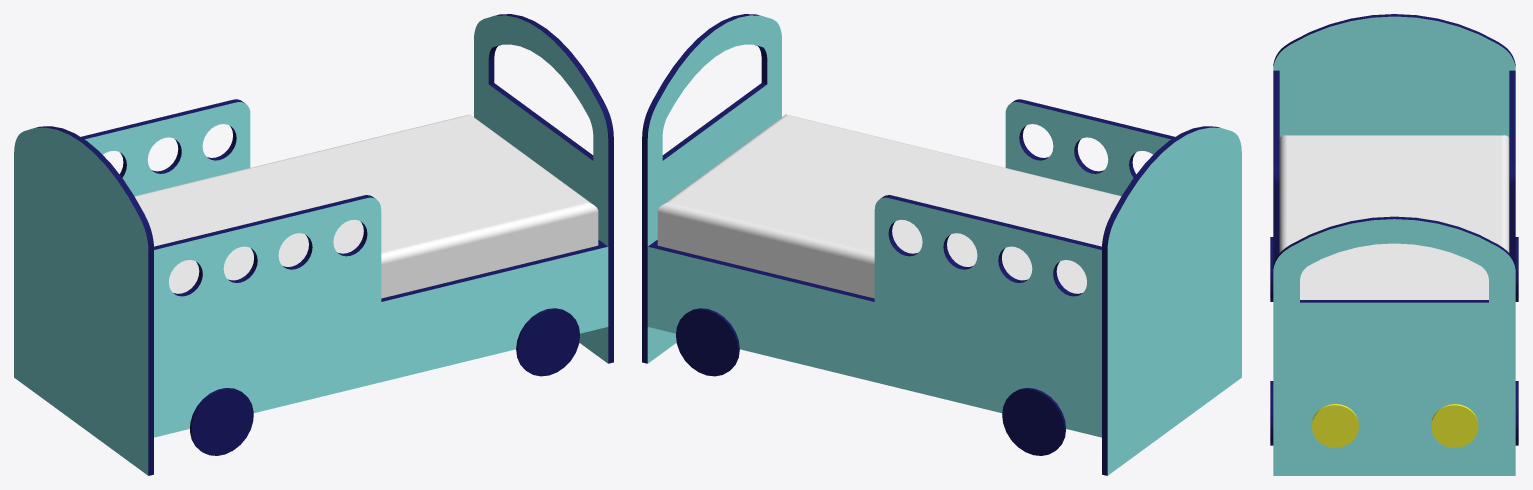
3 views of the same model, side by side, from view 1: azimuth 30°, elevation 25°; view 2: azimuth 150°, elevation 25°; view 3: azimuth 270°, elevation 25° (orthographic). The views are drawn at different scales.
Visible parts, largest first — view 1: Layer0_001; view 2: Layer0_001; view 3: Layer0_001.
Boxes of the visible parts, bbox=[...] form: Layer0_001: bbox=[14, 14, 613, 475]; Layer0_001: bbox=[642, 14, 1241, 475]; Layer0_001: bbox=[1270, 14, 1518, 475].
Bounding box in the file's own units: 64.96 × 37.71 × 33.07.
